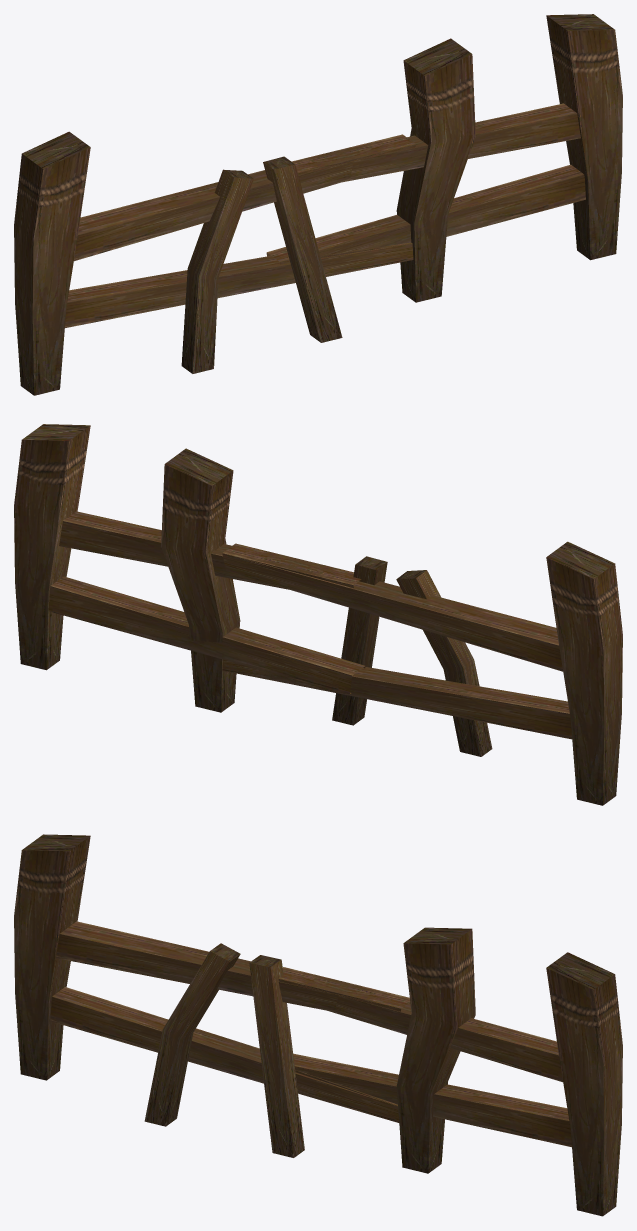
Rendered from yunbiao_02.FBX.
3 renders of one model, top to bottom at view 1: azimuth 30°, elevation 25°; view 2: azimuth 150°, elevation 25°; view 3: azimuth 330°, elevation 25°, orthographic.
Parts seen in each view (by area): view 1: s7_3d_xinzhalan001; view 2: s7_3d_xinzhalan001; view 3: s7_3d_xinzhalan001.
Part boxes in pixels (x1,y1,x2,y2): s7_3d_xinzhalan001: (14, 14, 622, 395); s7_3d_xinzhalan001: (14, 424, 622, 805); s7_3d_xinzhalan001: (14, 834, 622, 1216).
Bounding box in the file's own units: 3.2 × 1.24 × 0.3302.
